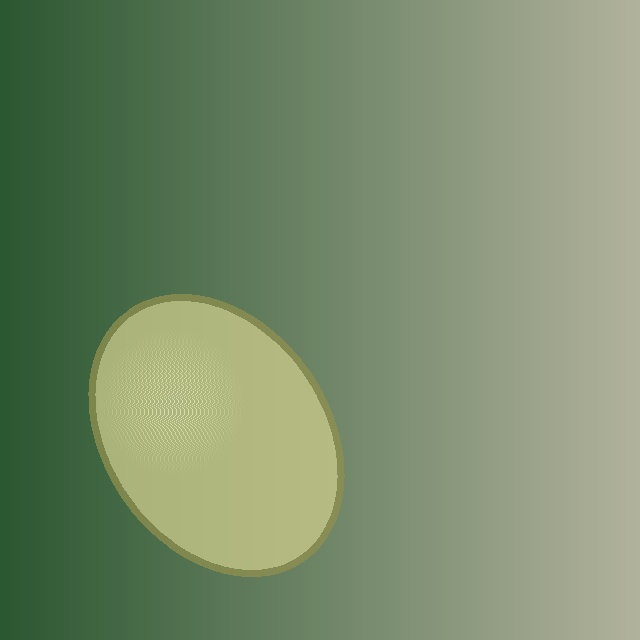lens: (91, 297, 341, 573)
